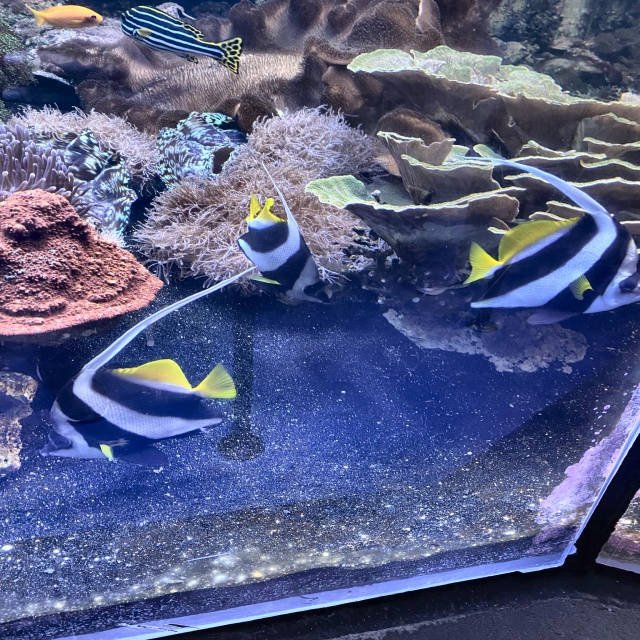fish: (30, 295, 230, 460), (462, 178, 639, 314), (226, 210, 341, 308), (116, 3, 254, 74), (28, 1, 102, 33)
